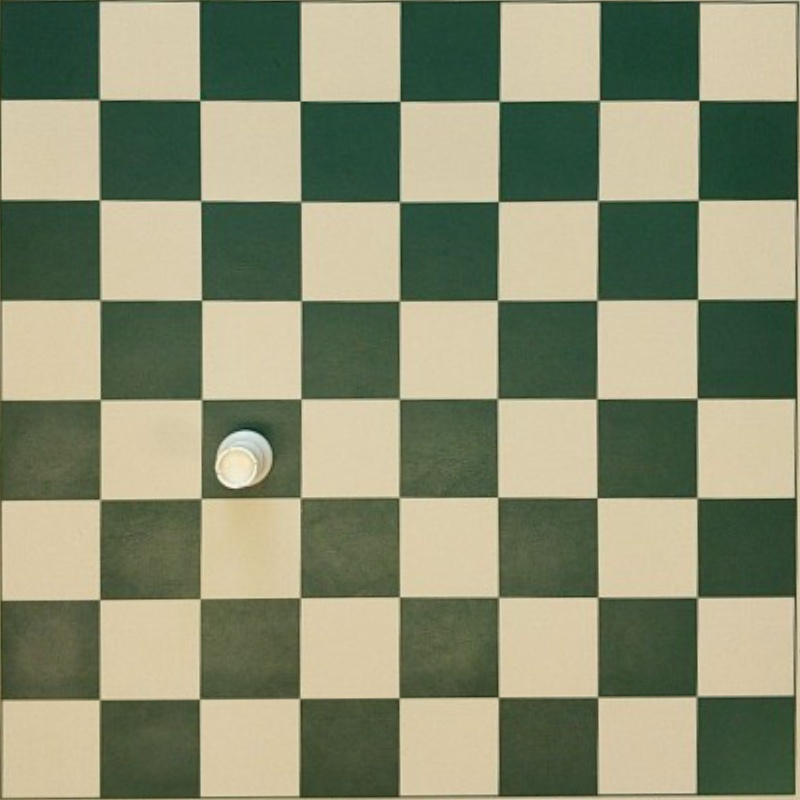white-rook: (213, 428, 273, 491)
